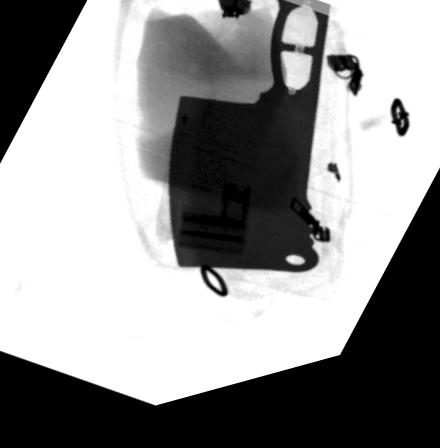Knife: (167, 0, 334, 291)
